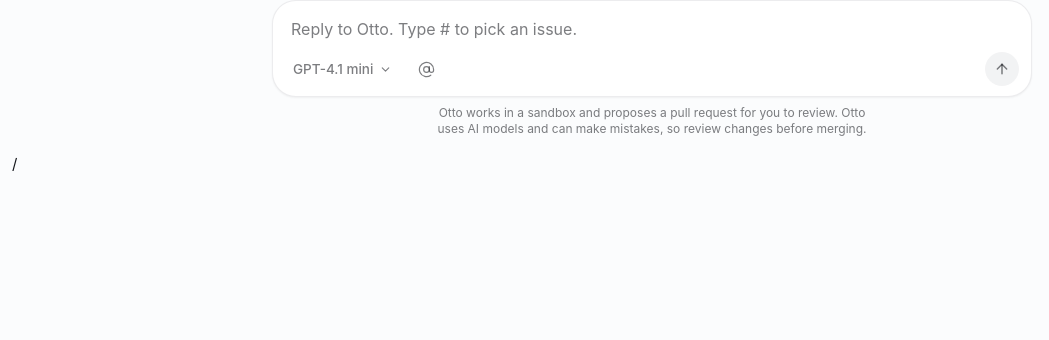
a 429 cap is shown inline
Type "x" into the text box named "Message Otto". click: (655, 30)
box: 291,15 -> 1019,44
Then press Enter
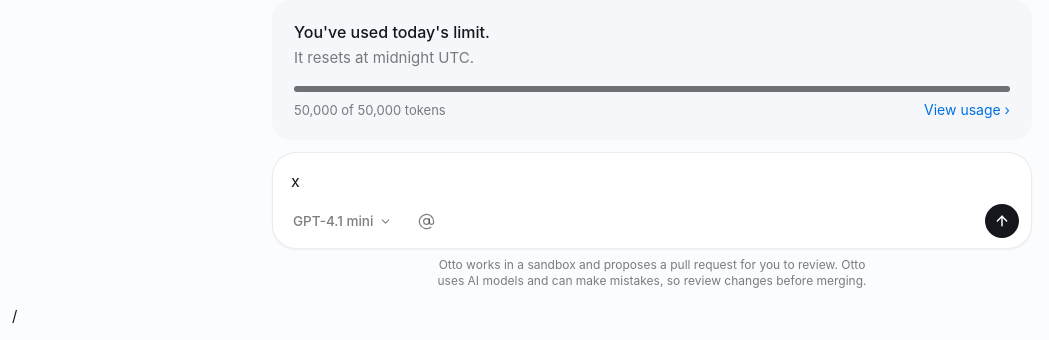
Expected: the text "You've used today's limit." is shown, 294,22 -> 490,42
